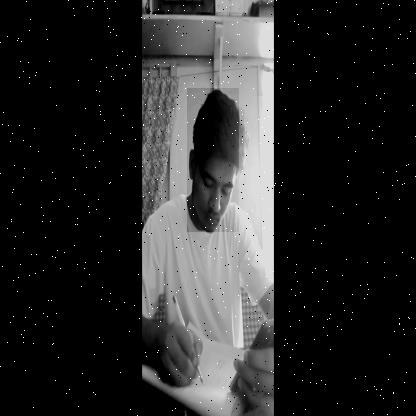Distracted: (187, 88, 239, 232)
